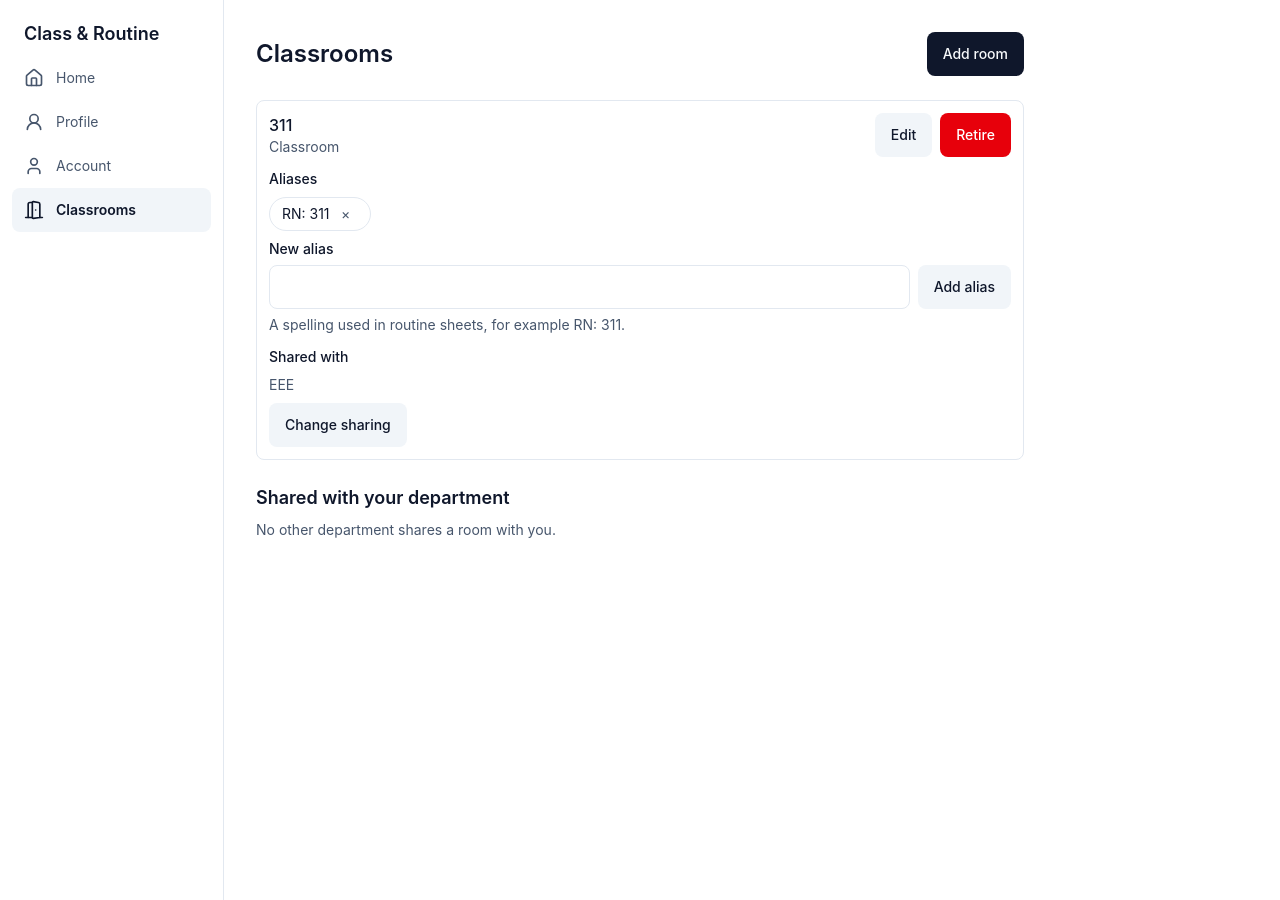
Test case: classrooms screens (spec 05) › ROOM-06 retiring a room that is in use shows the ROOM_IN_USE message
Click the button "Retire".
click(976, 135)  # box [940,113,1011,157]
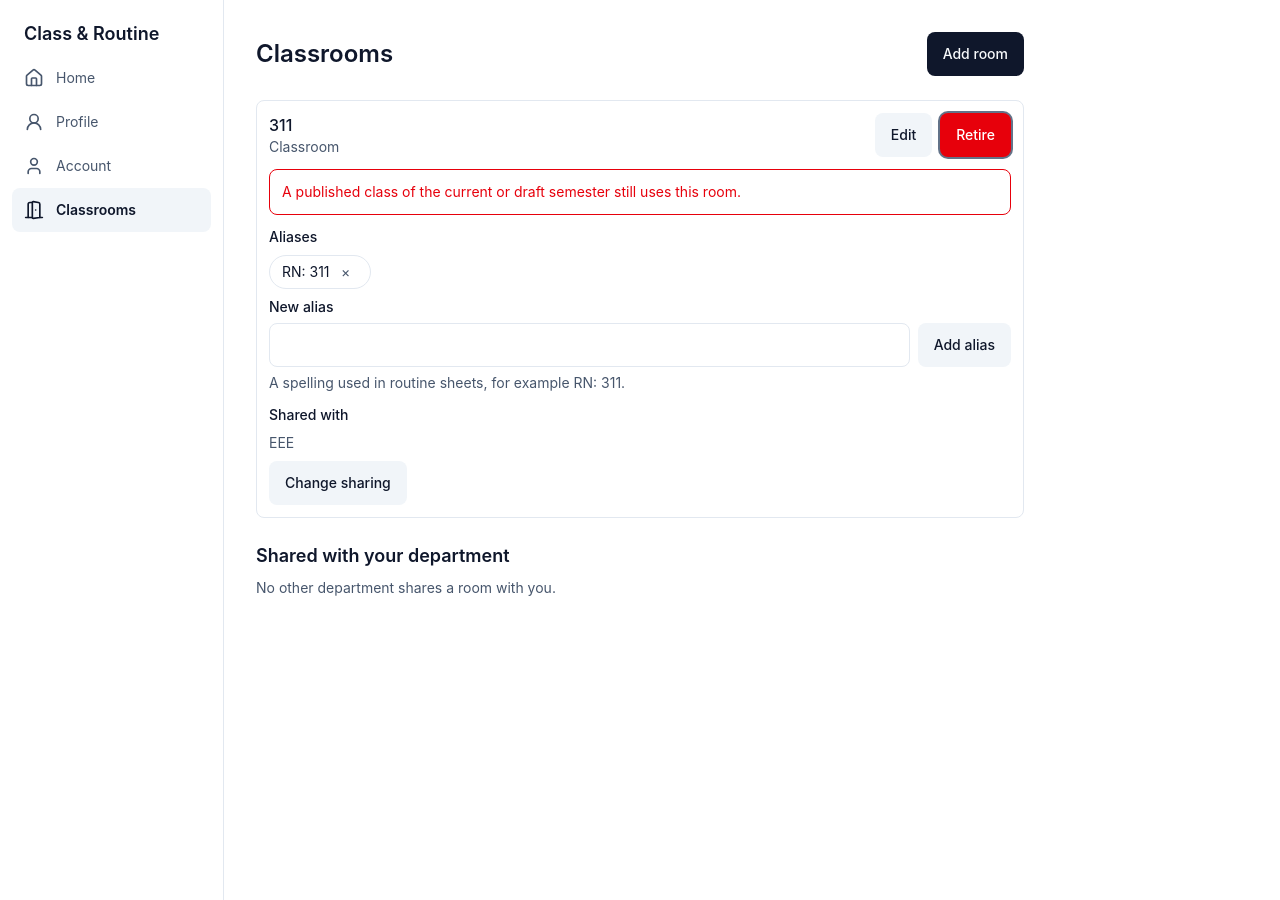
Expected: the text "A published class of the current or draft semester still uses this room." is shown, [269,169,1011,215]
